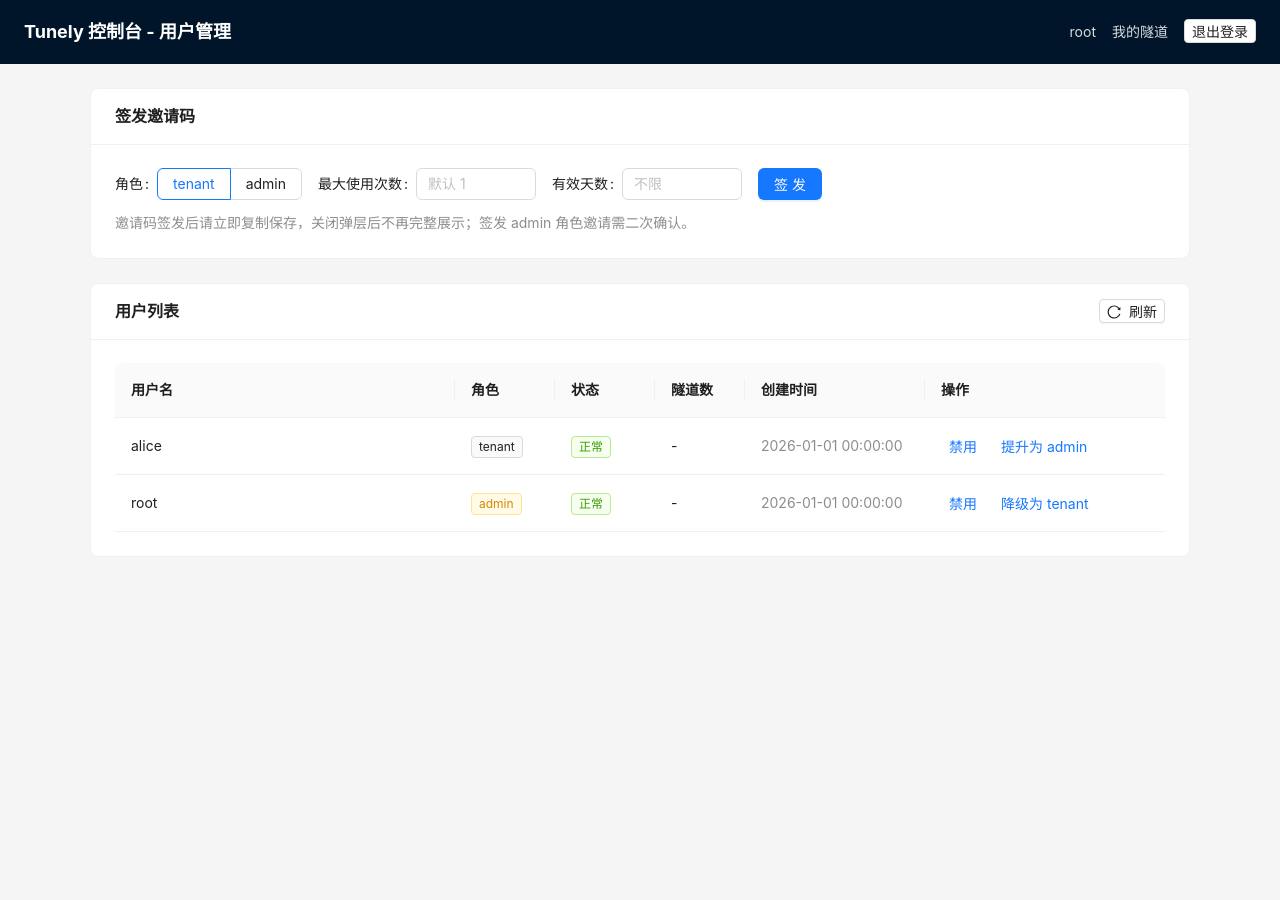
Test: Admin › 签发 admin 邀请码：选择 admin 角色后需二次确认，payload 带 role:"admin"
Check: the text "alice" is shown, box [115,418,455,475]
Step 1. Click the radio button labelled "admin" → click(266, 184), box [230,168,302,200]
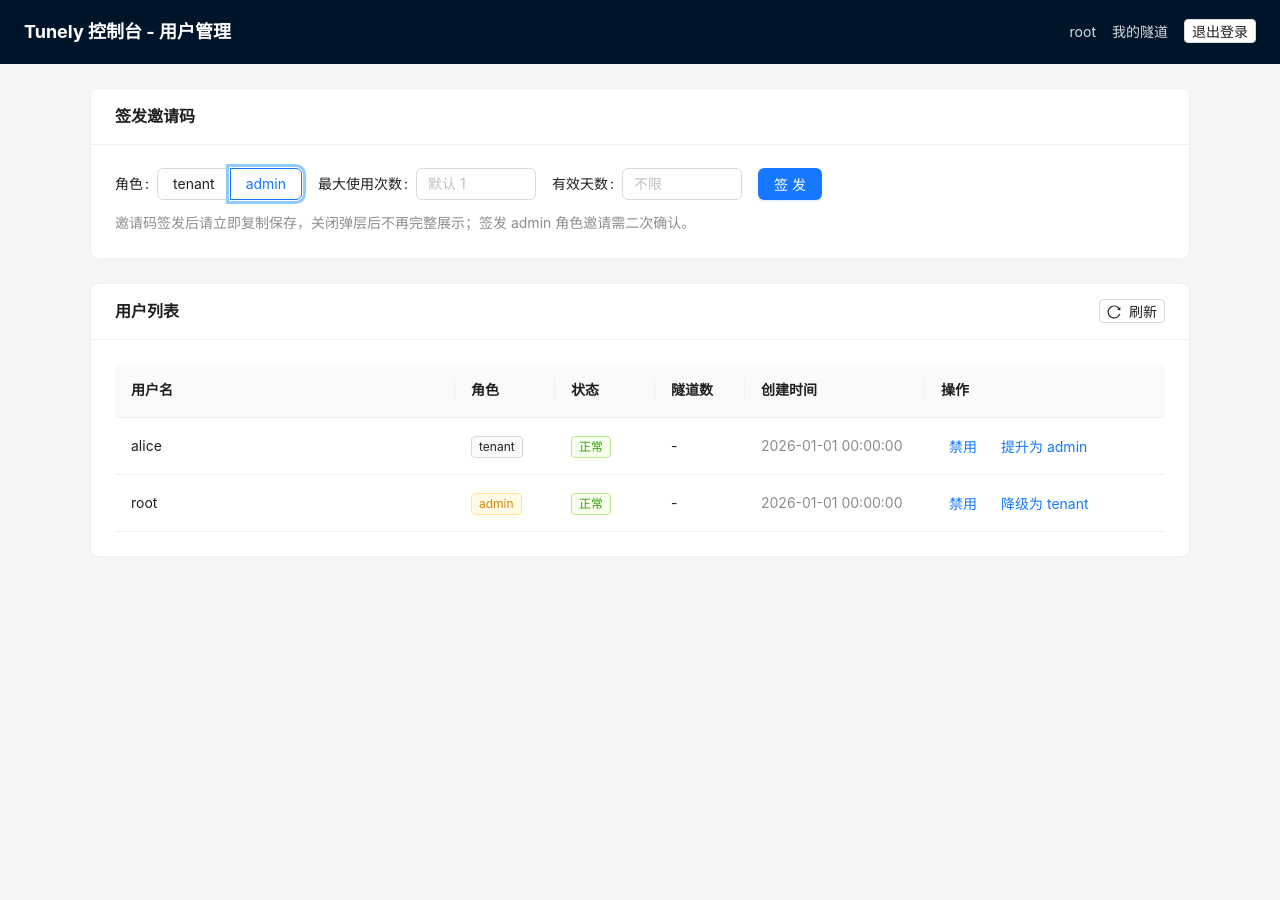
Step 2. Click the button "签 发" → click(790, 184), box [758,168,822,200]
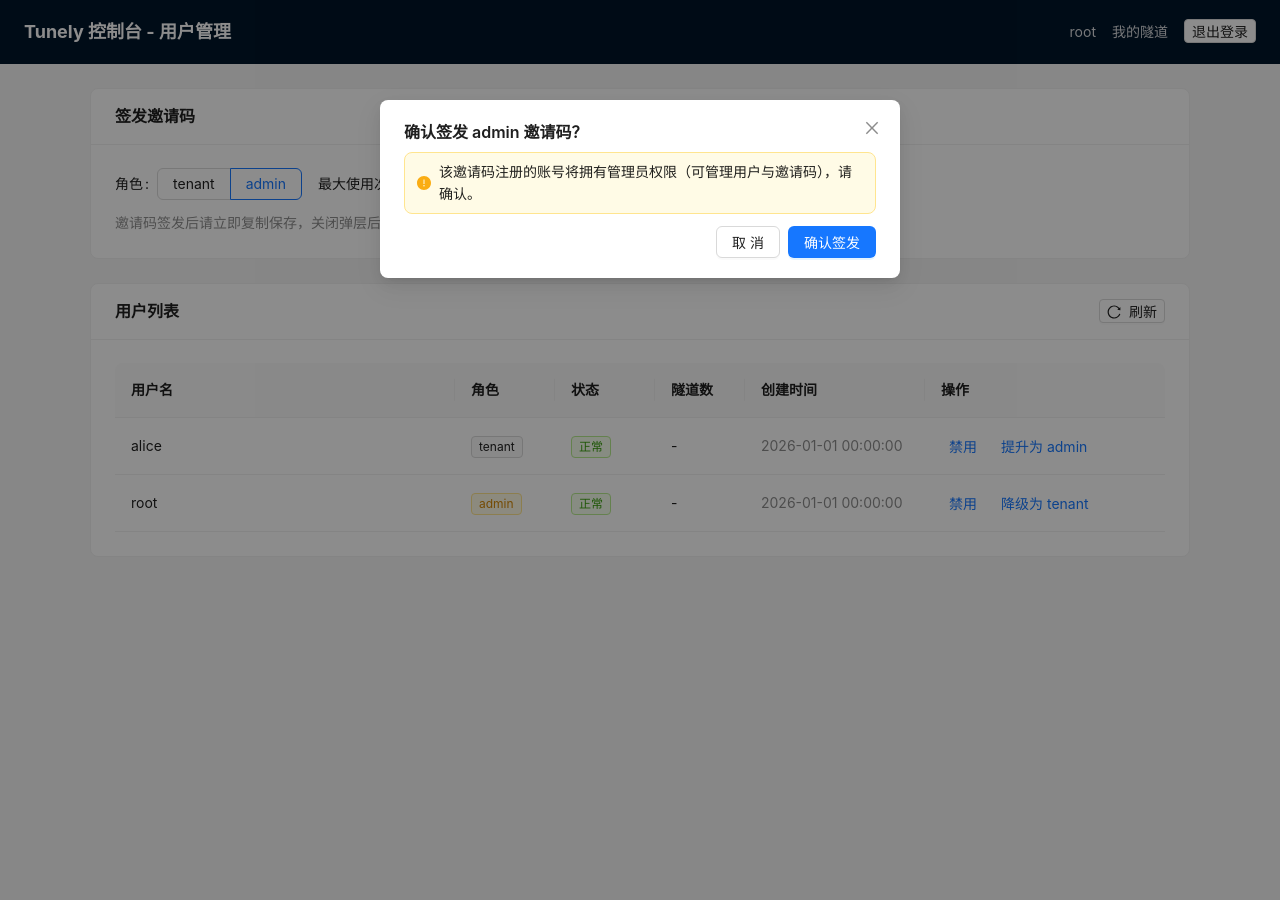
Check: the text "确认签发 admin 邀请码？" is shown, box [404,122,588,142]
Step 3. Click the button "确认签发" → click(832, 242), box [788,226,876,258]
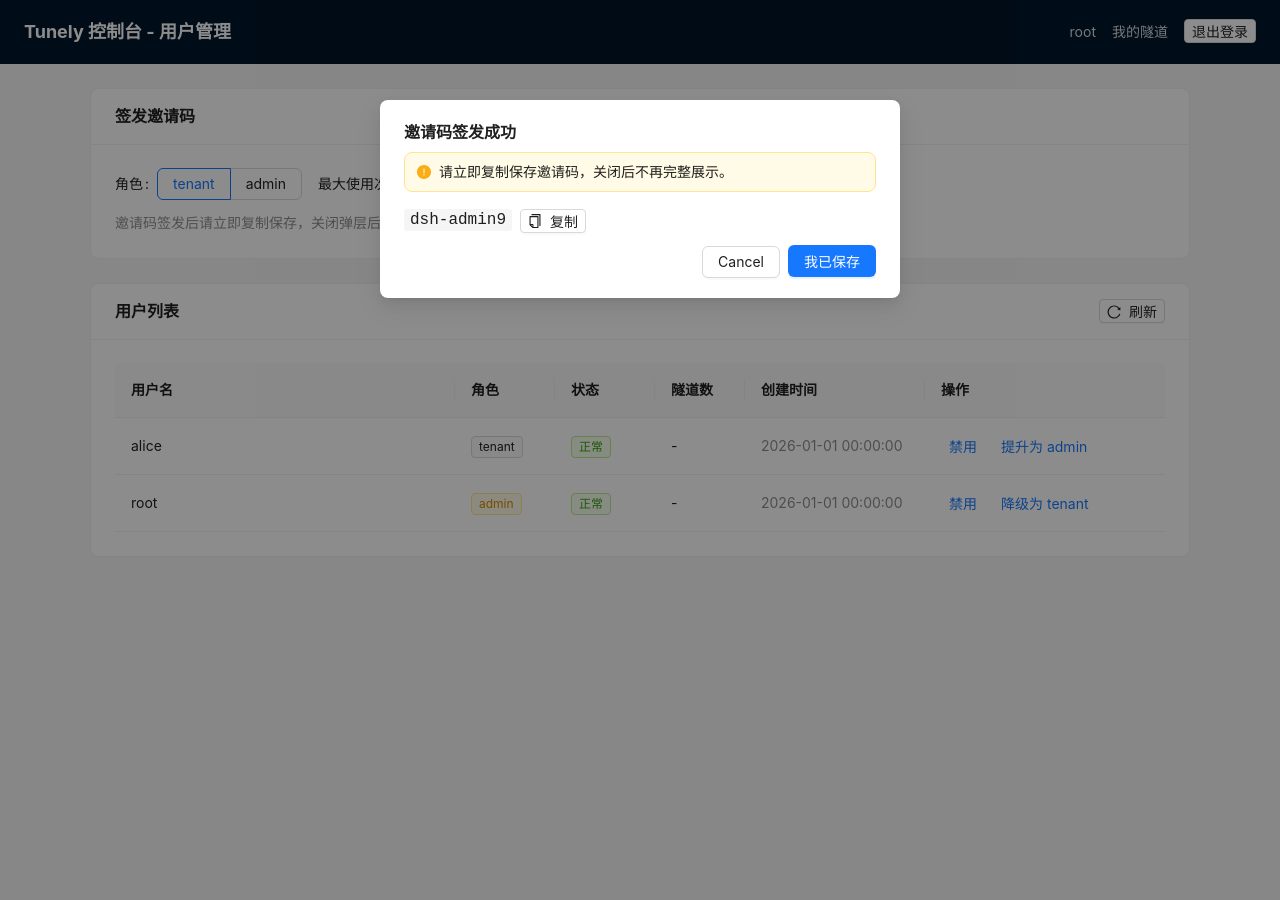
Check: the text "邀请码签发成功" is shown, box [404,122,516,142]
Check: the text "dsh-admin9" is shown, box [404,209,512,231]
